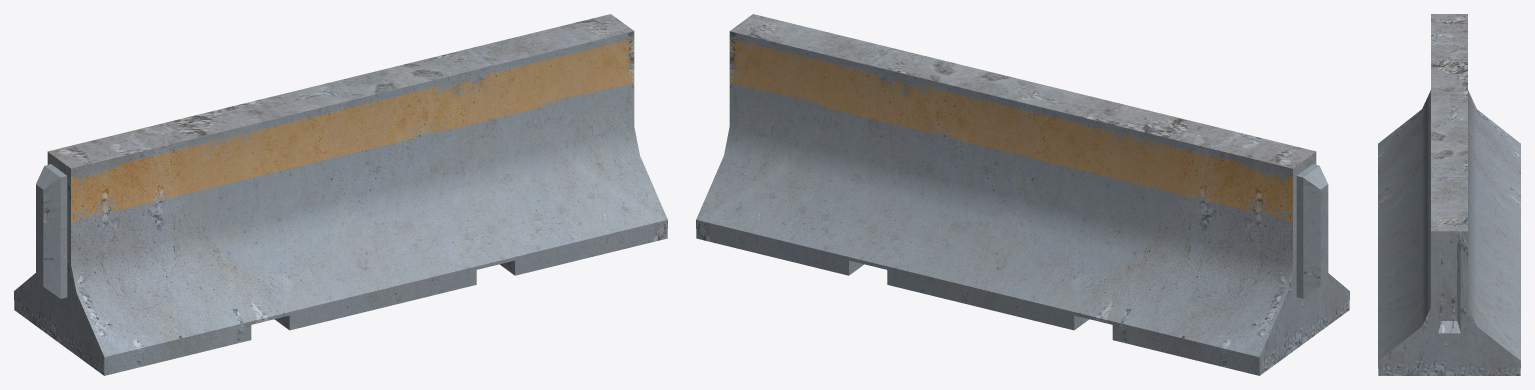
Rendered from ConcreteBarrier_Small.FBX.
The picture shows the model from 3 angles, left to right: view 1: azimuth 30°, elevation 25°; view 2: azimuth 150°, elevation 25°; view 3: azimuth 270°, elevation 25°; orthographic projection. The views are drawn at different scales.
Visible parts, largest first — view 1: ConcreteBarrier_Small; view 2: ConcreteBarrier_Small; view 3: ConcreteBarrier_Small.
Part boxes in pixels (x1,y1,x2,y2): ConcreteBarrier_Small: (14,14,667,375); ConcreteBarrier_Small: (696,14,1349,375); ConcreteBarrier_Small: (1378,14,1520,375).
Size of the model in its own units: 103 by 31.02 by 27.78.
Materials: 1 (1 with a texture image).
